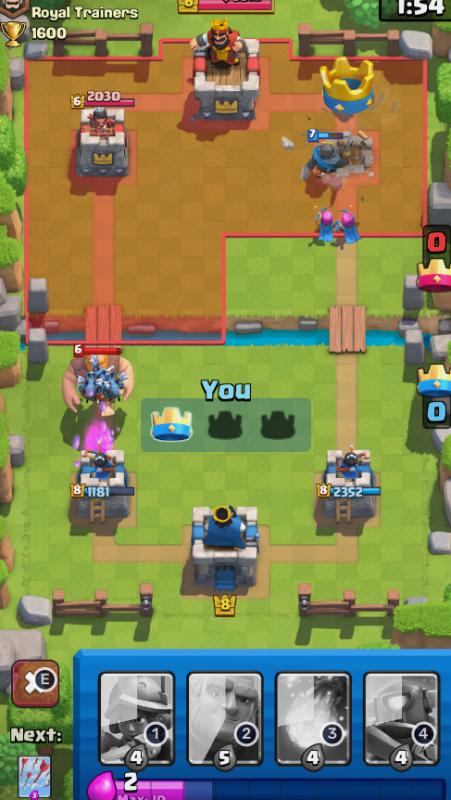archere: (340, 207, 362, 247), (316, 212, 340, 247)
chevalier: (300, 138, 353, 185)
gargouille: (67, 371, 98, 406), (102, 376, 132, 403), (90, 356, 113, 384)
geant: (58, 343, 135, 422)
